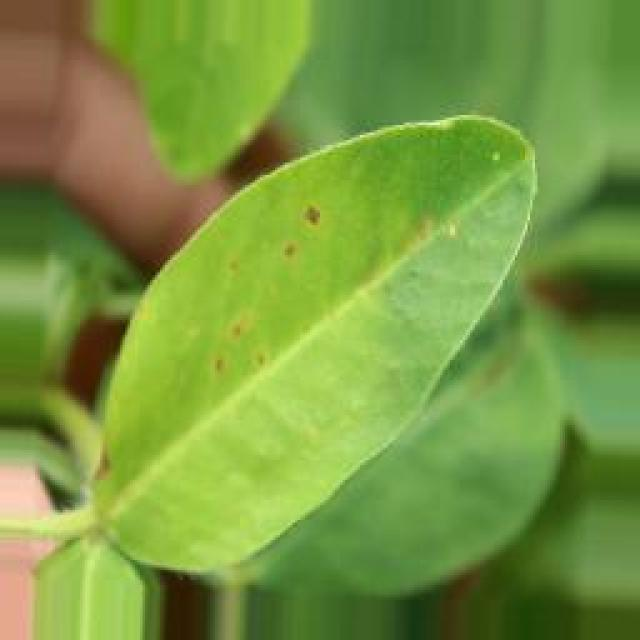Sigatoka: (182, 317, 274, 399), (263, 207, 323, 290), (68, 430, 132, 505), (220, 247, 260, 282)
